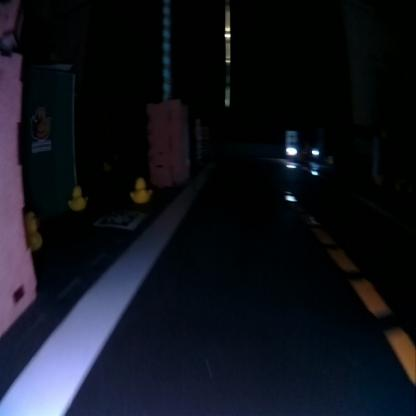Duckie: (24, 213, 42, 246), (130, 179, 151, 201), (69, 187, 86, 210)
QR code: (99, 209, 143, 228)
